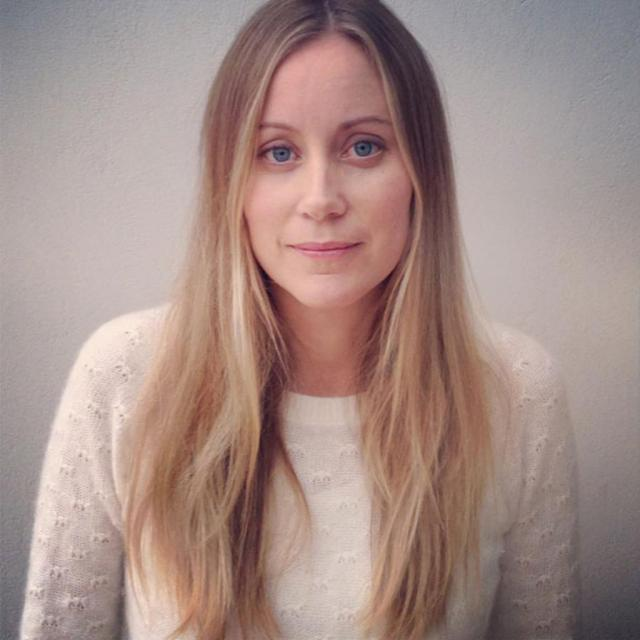nomask: (248, 36, 412, 305)
